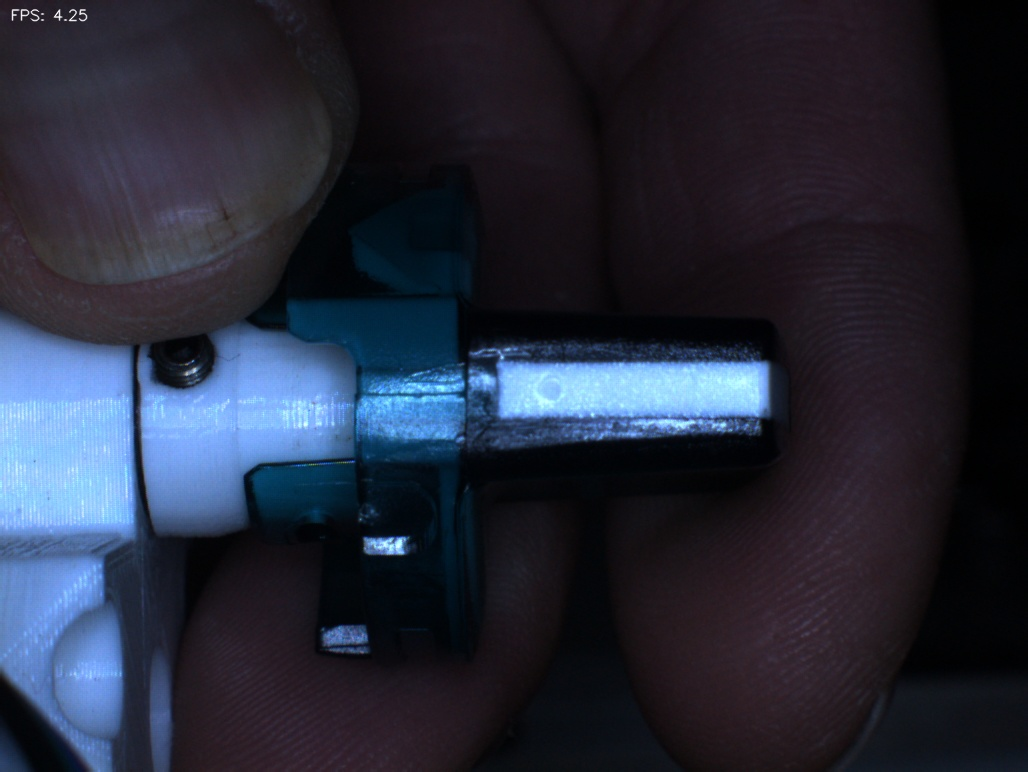DentOk: (329, 188, 393, 288)
